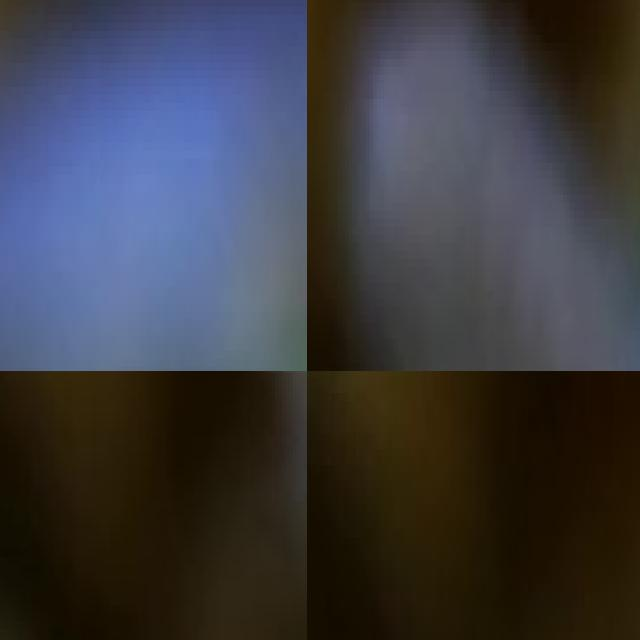fish: (0, 0, 307, 371), (191, 371, 307, 640)
